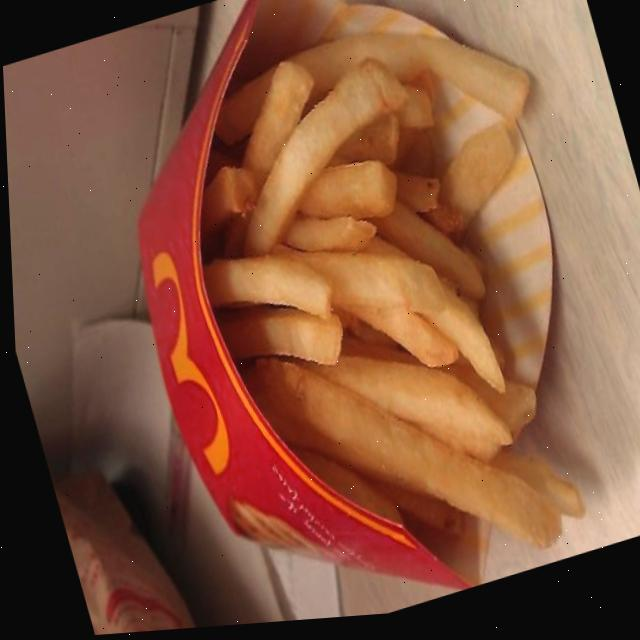炸货点心: (150, 0, 640, 631)
